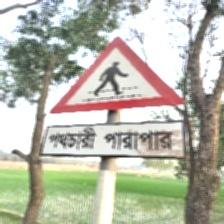Pedestrian-crossing: (44, 35, 189, 160)
